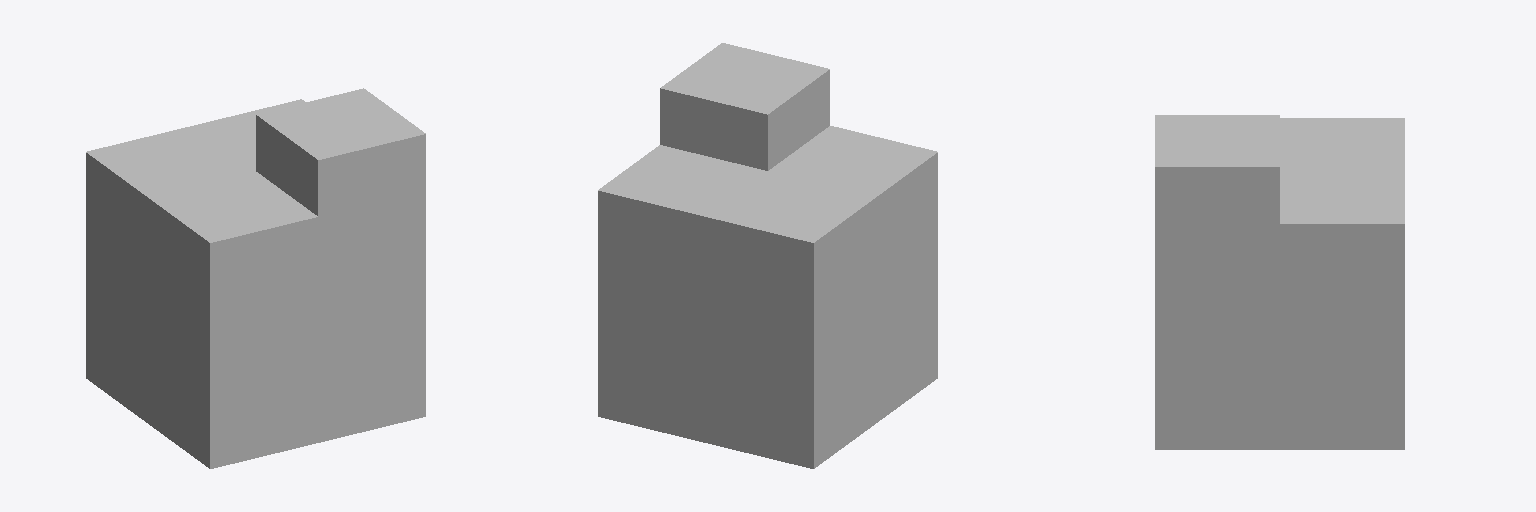
Rendered from grzyb.obj.
The picture shows the model from 3 angles: view 1: azimuth 30°, elevation 25°; view 2: azimuth 150°, elevation 25°; view 3: azimuth 270°, elevation 25°; orthographic projection.
Parts seen in each view (by area): view 1: obj1; view 2: obj1; view 3: obj1.
Boxes of the visible parts, <box> form: obj1: <box>86,88,425,468</box>; obj1: <box>598,43,937,468</box>; obj1: <box>1155,115,1404,449</box>.
Bounding box in the file's own units: 787 × 984 × 787.